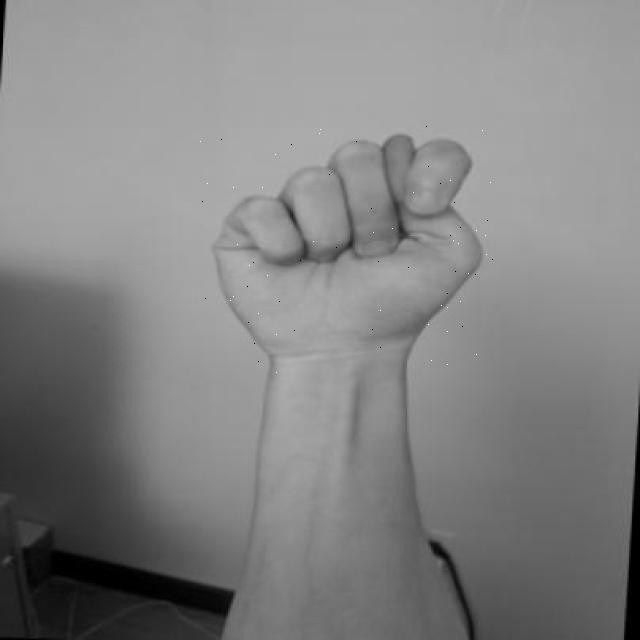T: (200, 123, 500, 375)
